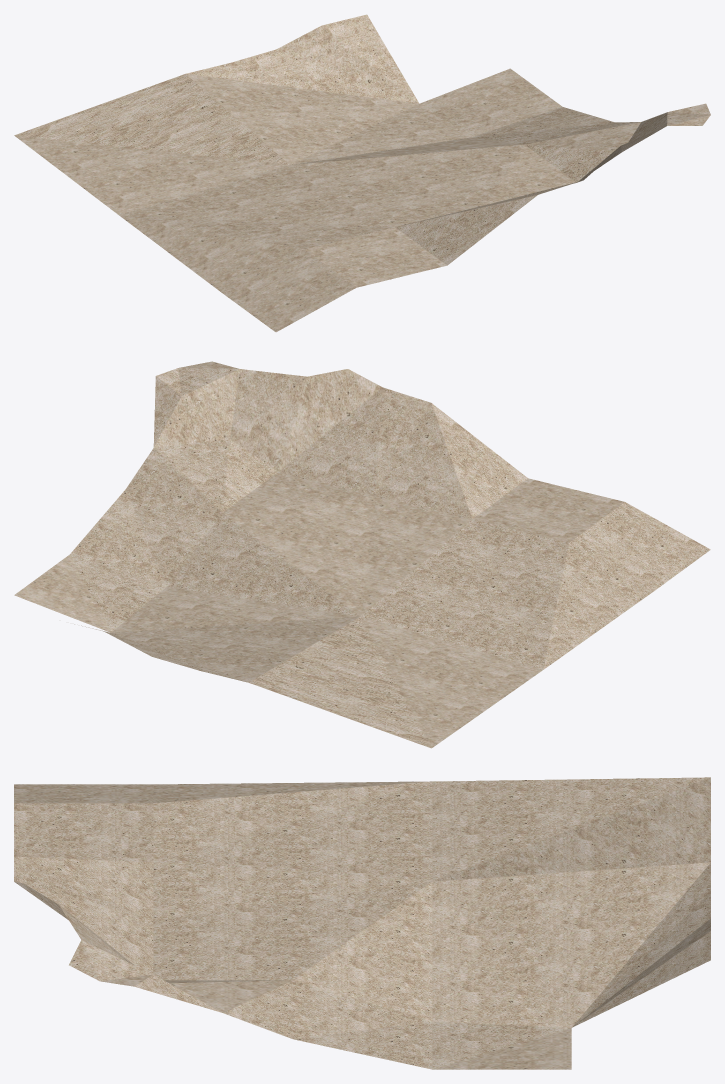
The model's file is sbce_groundpalo09.obj.
3 renders of one model, top to bottom at view 1: azimuth 30°, elevation 25°; view 2: azimuth 150°, elevation 25°; view 3: azimuth 270°, elevation 25°, orthographic. The views are drawn at different scales.
Parts seen in each view (by area): view 1: sbCE_groundPALO09; view 2: sbCE_groundPALO09; view 3: sbCE_groundPALO09.
Boxes of the visible parts, bbox=[...] form: sbCE_groundPALO09: bbox=[14, 14, 710, 332]; sbCE_groundPALO09: bbox=[14, 361, 710, 748]; sbCE_groundPALO09: bbox=[14, 777, 710, 1069].
Size of the model in its own units: 259 by 52.39 by 247.
